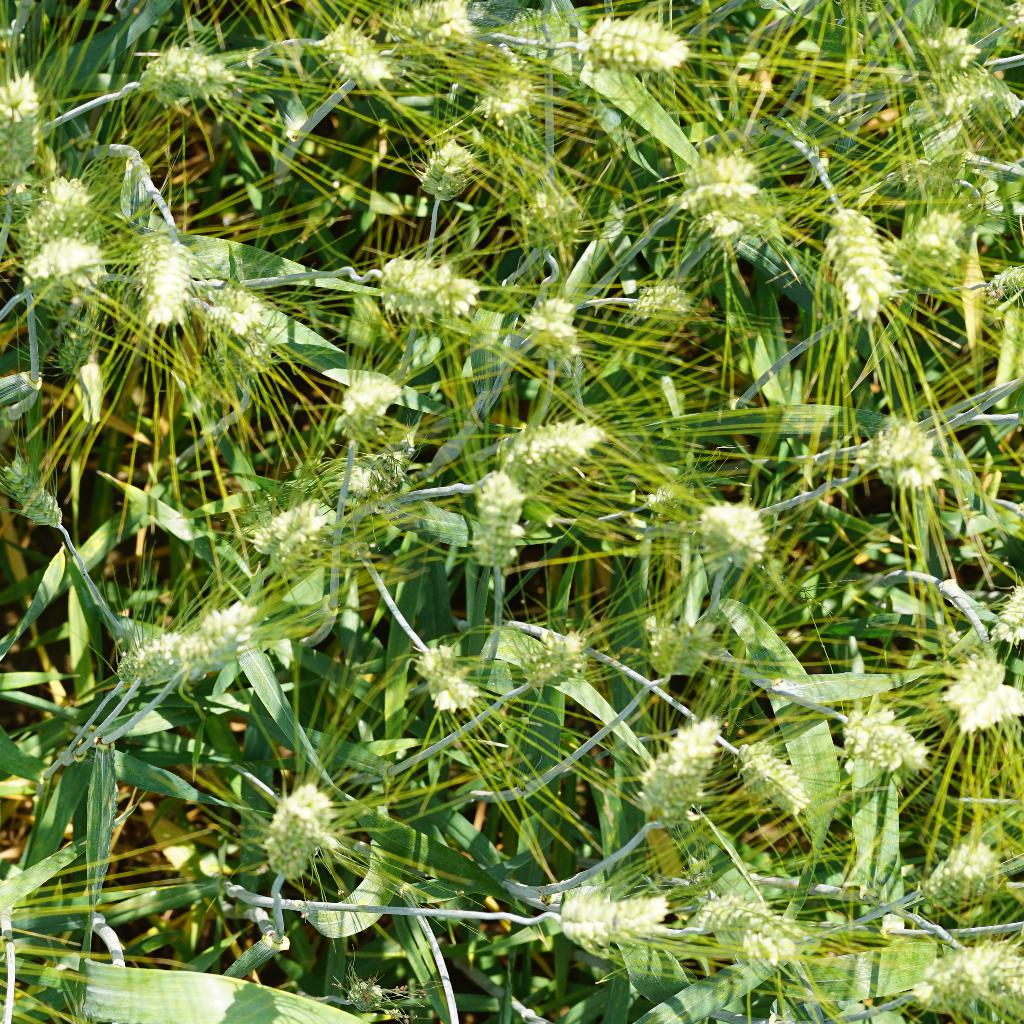0-0: (630, 702, 724, 841), (355, 242, 494, 326), (817, 189, 905, 316), (539, 879, 683, 952), (256, 768, 336, 896), (152, 590, 279, 668), (680, 874, 795, 959), (453, 425, 593, 493), (731, 722, 823, 823), (553, 10, 684, 79), (139, 208, 206, 339), (249, 496, 350, 580), (679, 135, 777, 220), (854, 410, 946, 496), (623, 590, 705, 686), (911, 822, 1009, 901), (413, 632, 494, 727), (836, 690, 925, 774), (8, 231, 107, 302), (680, 493, 770, 571), (920, 190, 989, 290), (508, 290, 586, 378), (397, 120, 473, 208), (512, 613, 591, 697), (302, 18, 387, 93), (956, 642, 1020, 737), (11, 176, 86, 253), (137, 38, 221, 104), (478, 467, 530, 572), (112, 615, 180, 695), (0, 75, 47, 190), (0, 456, 66, 537), (464, 63, 542, 131), (920, 6, 989, 81), (520, 179, 583, 254), (202, 280, 272, 346), (217, 322, 278, 395), (397, 0, 478, 49), (49, 311, 100, 387), (333, 971, 404, 1020), (631, 272, 699, 322)
